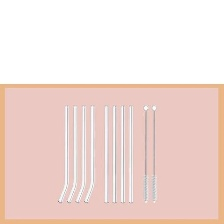drinking_straw: (54, 103, 72, 205), (101, 104, 110, 204)
